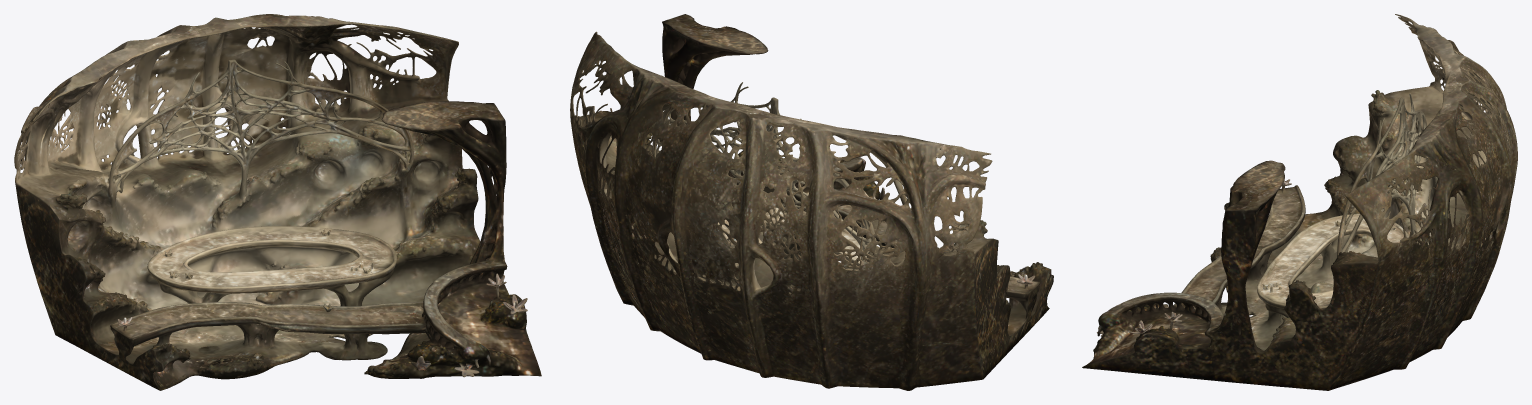
The model's file is grounds.glb.
3 renders of one model, left to right at view 1: azimuth 30°, elevation 25°; view 2: azimuth 150°, elevation 25°; view 3: azimuth 270°, elevation 25°, orthographic. The views are drawn at different scales.
Visible parts, largest first — view 1: tripo_node_46c2488b-5f57-4e31-9b51-30268e0e8d7d; view 2: tripo_node_46c2488b-5f57-4e31-9b51-30268e0e8d7d; view 3: tripo_node_46c2488b-5f57-4e31-9b51-30268e0e8d7d.
Boxes of the visible parts, x1,y1,x2,y2 form: tripo_node_46c2488b-5f57-4e31-9b51-30268e0e8d7d: (14, 14, 541, 390); tripo_node_46c2488b-5f57-4e31-9b51-30268e0e8d7d: (570, 14, 1053, 390); tripo_node_46c2488b-5f57-4e31-9b51-30268e0e8d7d: (1082, 14, 1517, 390).
Size of the model in its own units: 0.981 by 0.5447 by 0.9782.
Materials: 1 (1 with a texture image).
